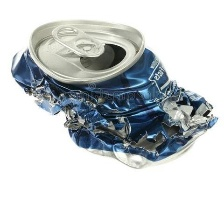can: (5, 10, 218, 174)
